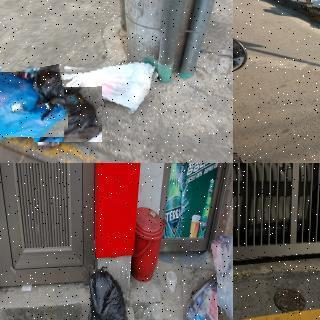Garbage: (61, 59, 161, 119), (0, 68, 66, 140), (34, 87, 102, 142), (183, 261, 233, 320), (84, 266, 129, 320), (213, 235, 233, 320)
